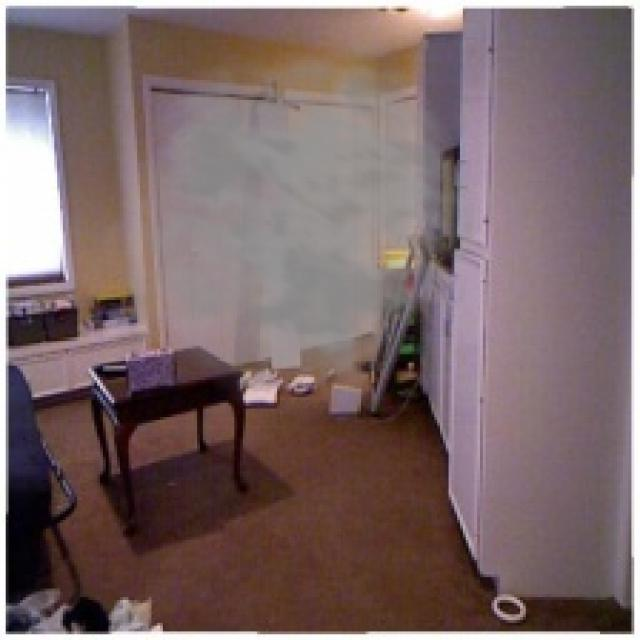smoke: (97, 37, 480, 414)
